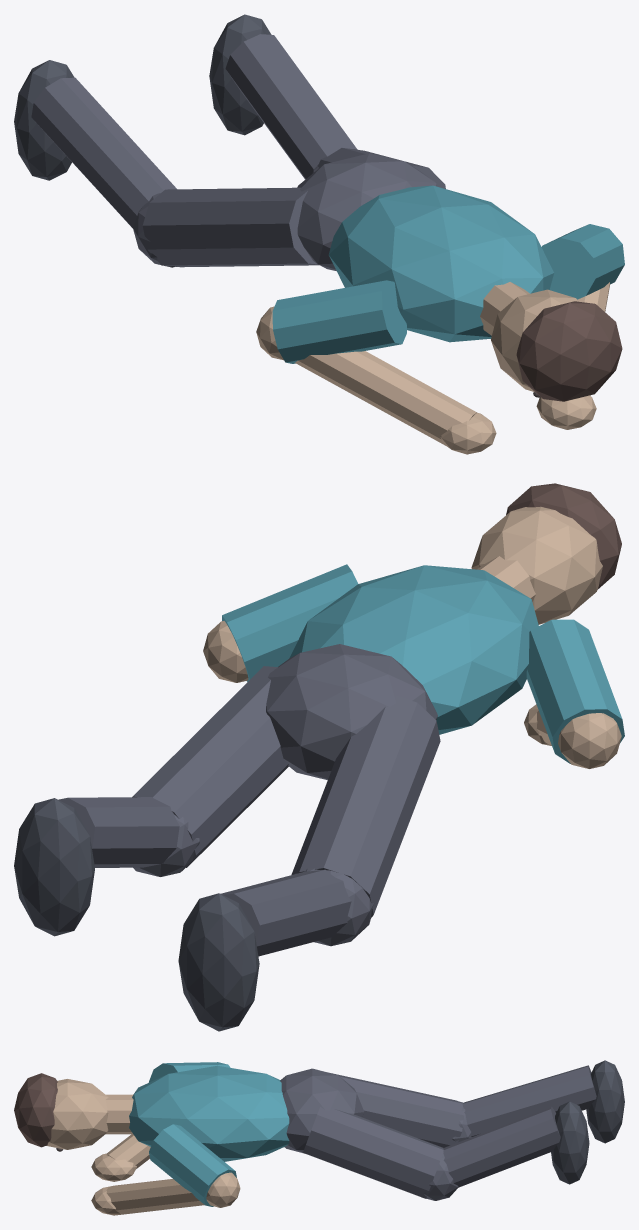
3 views of the same model, one above another, from view 1: azimuth 30°, elevation 25°; view 2: azimuth 150°, elevation 25°; view 3: azimuth 270°, elevation 25° (orthographic). The views are drawn at different scales.
Visible parts, largest first — view 1: world; view 2: world; view 3: world.
Part boxes in pixels (box(x1,y1,x2,y2)): world: box(14, 14, 624, 454); world: box(14, 483, 624, 1031); world: box(14, 1060, 624, 1215).
Bounding box in the file's own units: 0.93 × 0.4362 × 2.
